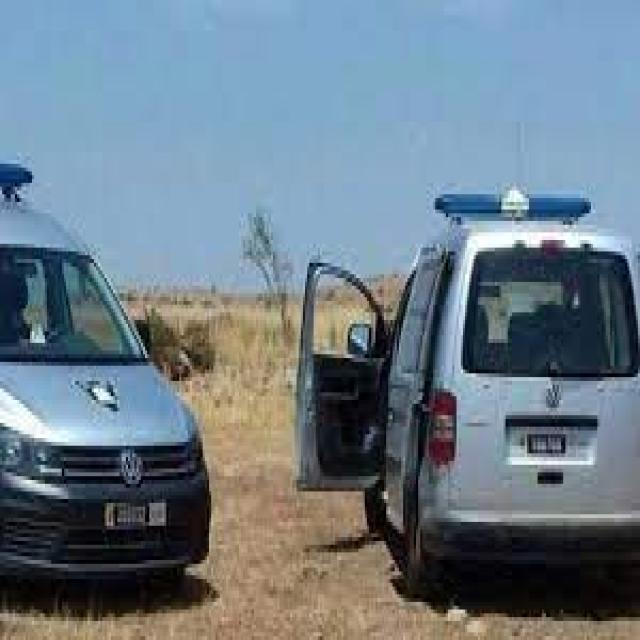gendarme car: (0, 153, 217, 604)
